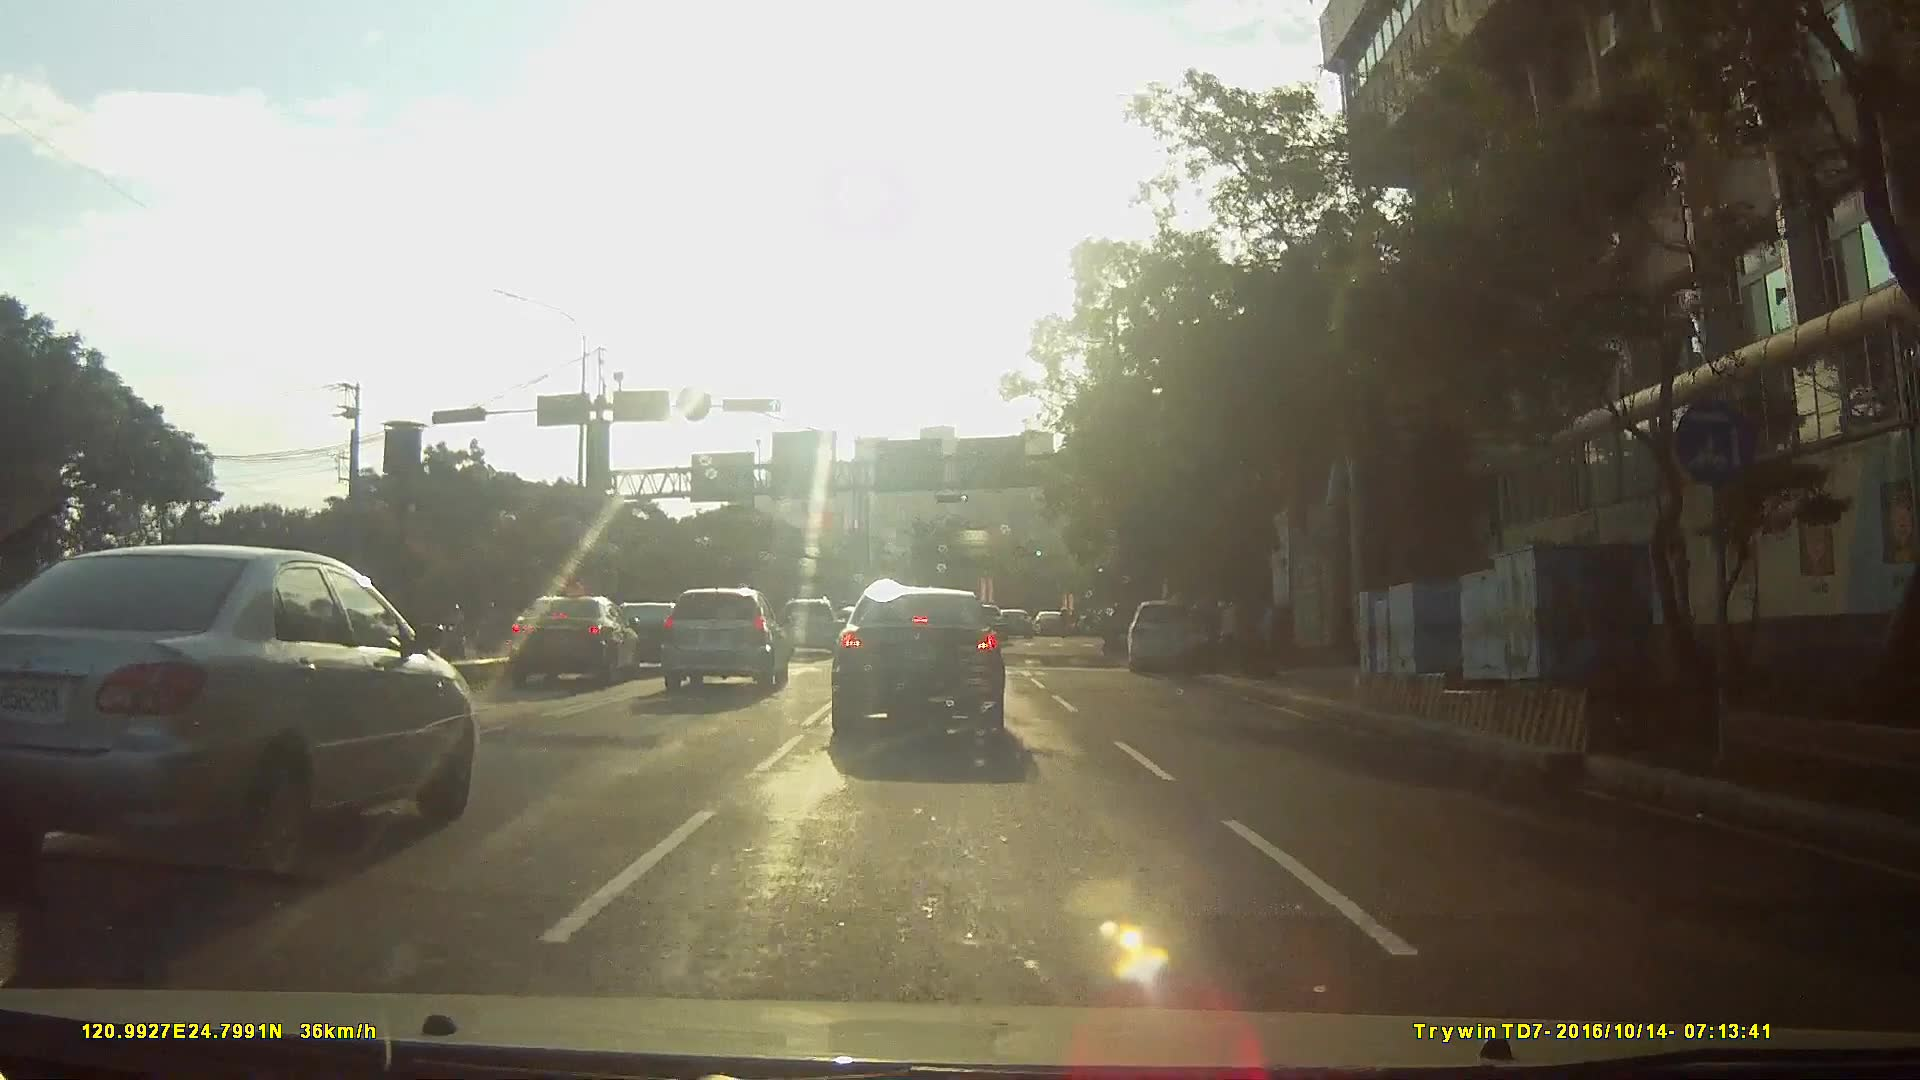pedestrian: (1216, 602, 1243, 665)
rider: (442, 601, 469, 663)
vehicle: (1, 543, 499, 895), (822, 601, 1022, 771), (482, 598, 629, 695), (655, 588, 789, 693), (1132, 600, 1217, 679), (593, 603, 681, 674), (775, 600, 845, 664), (958, 606, 1014, 653), (997, 612, 1036, 644), (1033, 612, 1073, 640)
